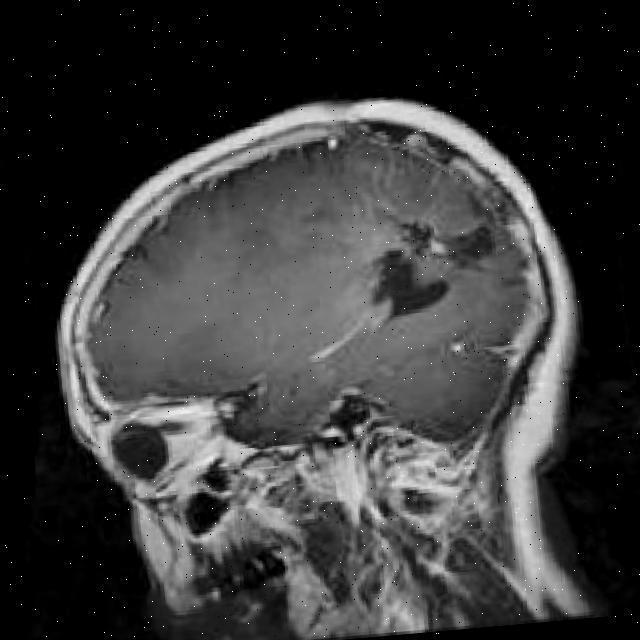LMCI: (334, 242, 524, 410)
